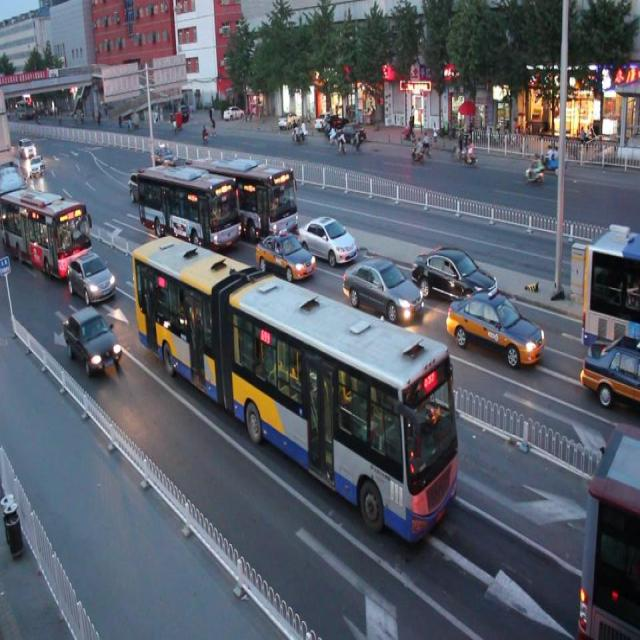car: (444, 290, 546, 370), (342, 256, 424, 322), (61, 303, 123, 377), (414, 247, 496, 302), (578, 337, 640, 407), (255, 230, 318, 280), (299, 214, 357, 268), (68, 253, 118, 304), (126, 168, 160, 205)
van: (131, 238, 460, 548), (577, 426, 640, 628), (193, 154, 300, 238), (140, 164, 241, 251), (1, 190, 92, 282), (580, 232, 640, 346)
